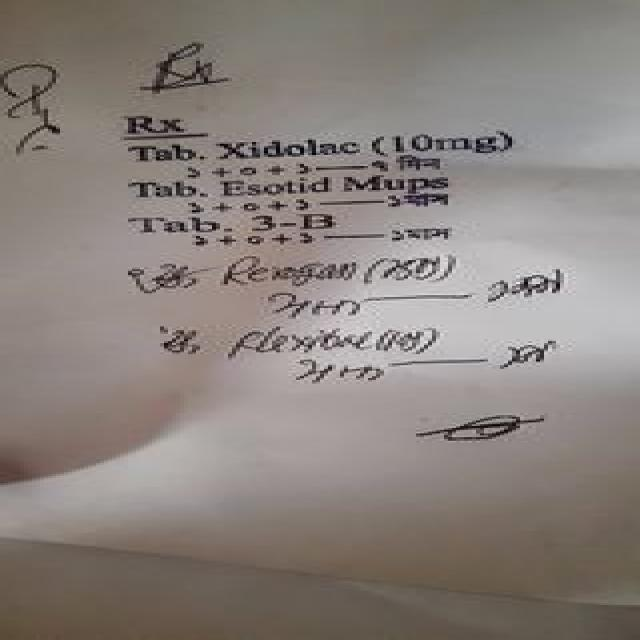Flexibac: (217, 324, 378, 363)
Recogen: (211, 253, 369, 291)
